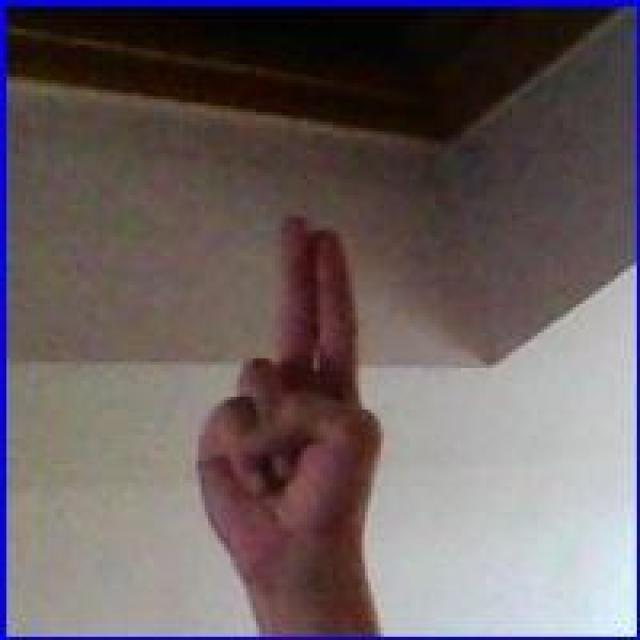U: (192, 203, 390, 574)
